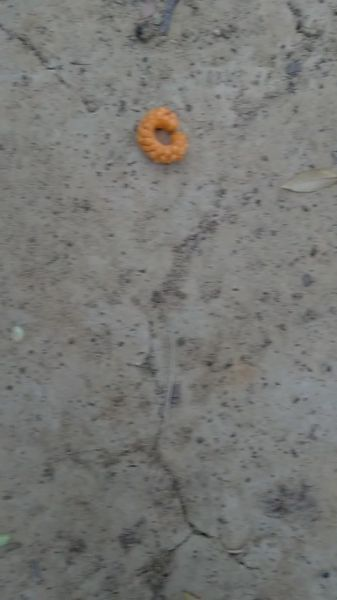eggs: (137, 102, 190, 167)
